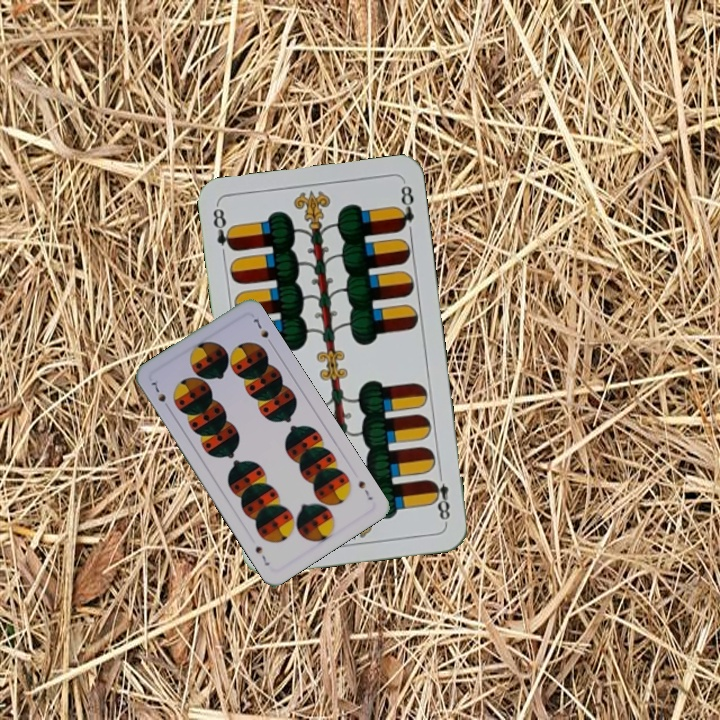E8: (209, 202, 238, 254), (427, 467, 452, 526)
S7: (147, 378, 173, 413), (354, 477, 375, 503)
